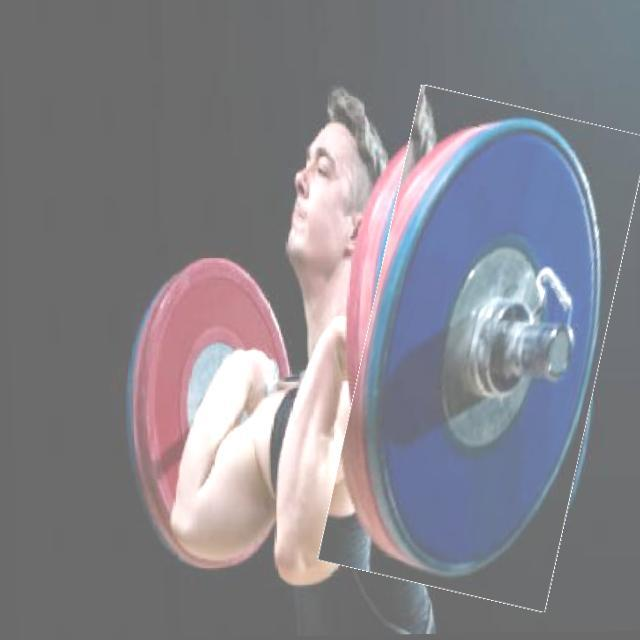barbell: (332, 96, 632, 607)
